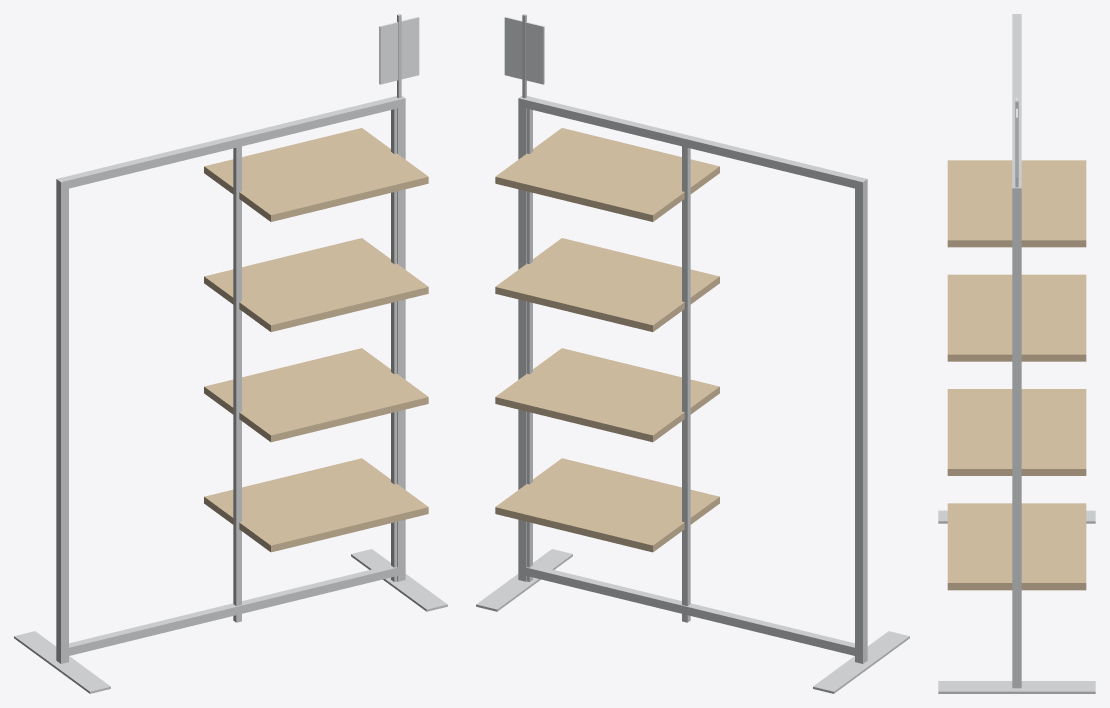
The picture shows the model from 3 angles, left to right: view 1: azimuth 30°, elevation 25°; view 2: azimuth 150°, elevation 25°; view 3: azimuth 270°, elevation 25°; orthographic projection. The views are drawn at different scales.
Size of the model in its own units: 1.39 by 2.06 by 0.5.
